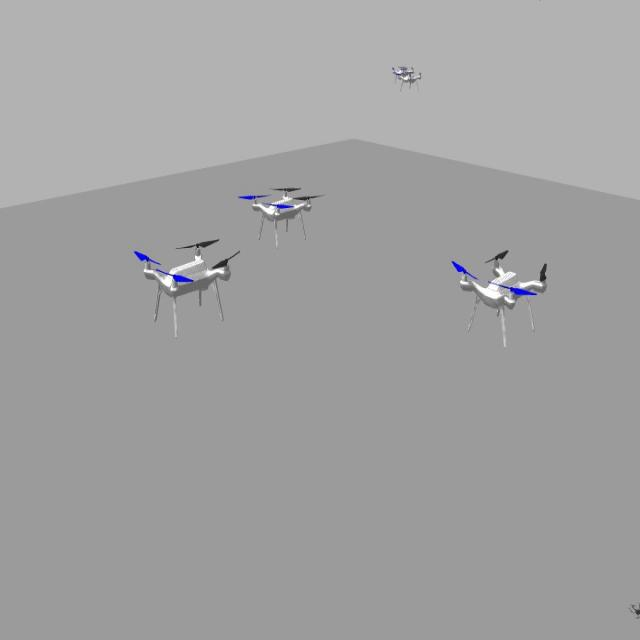Drone: (127, 224, 243, 342)
